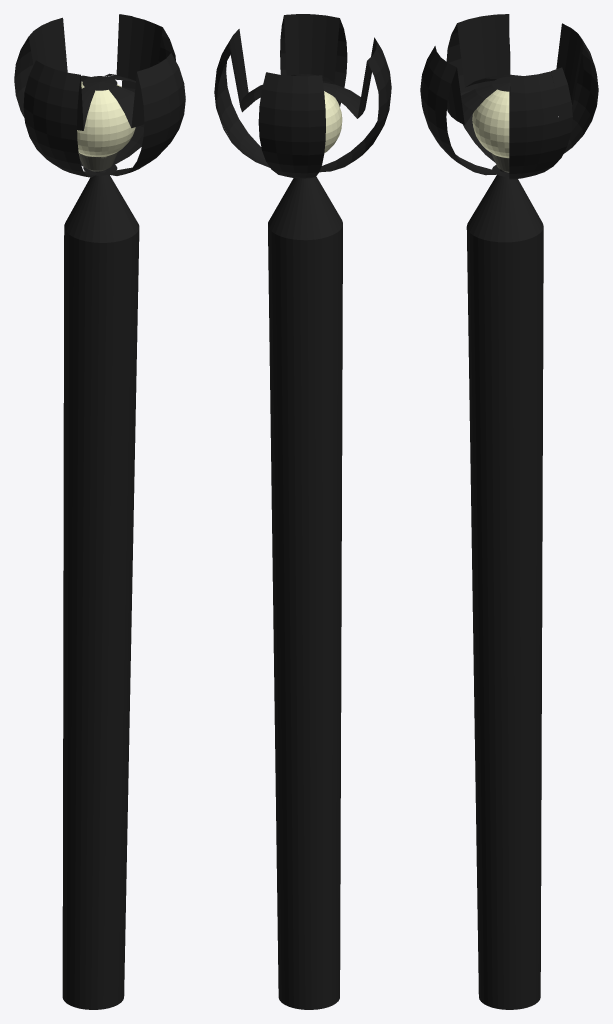
The model's file is Lantaarn.fbx.
3 views of the same model, side by side, from view 1: azimuth 30°, elevation 25°; view 2: azimuth 150°, elevation 25°; view 3: azimuth 270°, elevation 25° (orthographic).
Parts seen in each view (by area): view 1: Cylinder; view 2: Cylinder; view 3: Cylinder.
Part boxes in pixels (<box>): Cylinder: <box>14,14,185,1009</box>; Cylinder: <box>214,14,391,1009</box>; Cylinder: <box>420,14,598,1009</box>.
Bounding box in the file's own units: 199 × 1183 × 200.
2 materials, 1 textured.
